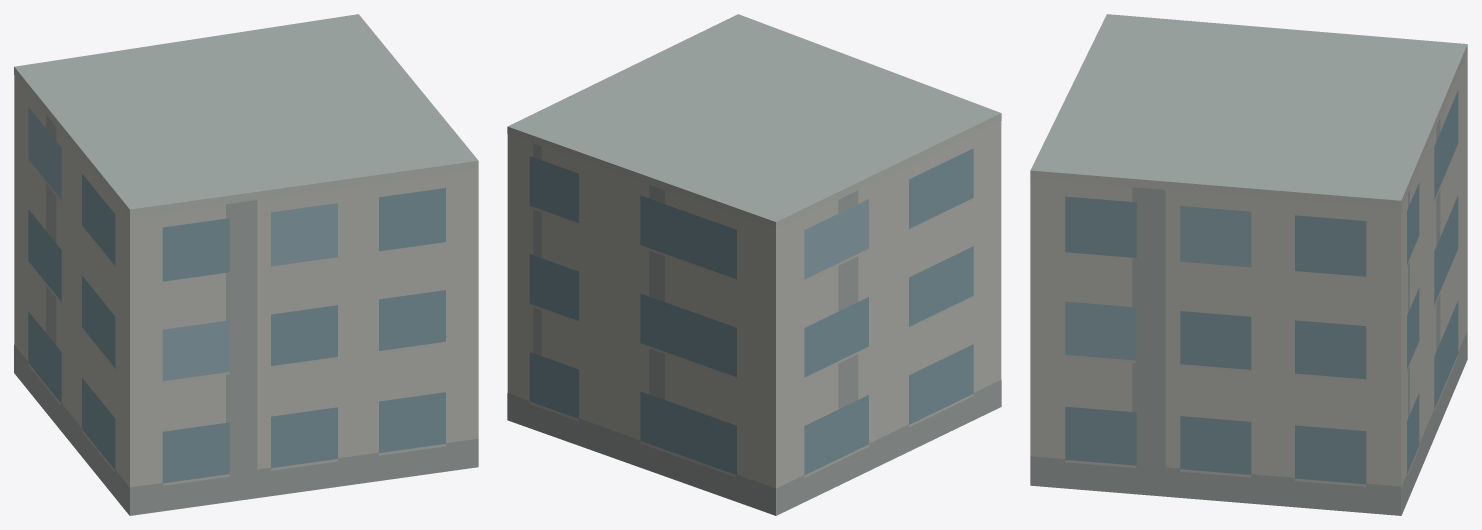
File: survey-upis-32780818.glb
The picture shows the model from 3 angles, left to right: view 1: azimuth 30°, elevation 25°; view 2: azimuth 150°, elevation 25°; view 3: azimuth 270°, elevation 25°; orthographic projection. The views are drawn at different scales.
Visible parts, largest first — view 1: survey-upis-32780818.tmp; view 2: survey-upis-32780818.tmp; view 3: survey-upis-32780818.tmp.
Part boxes in pixels (bbox=[...]): survey-upis-32780818.tmp: bbox=[14, 14, 478, 515]; survey-upis-32780818.tmp: bbox=[507, 14, 1001, 515]; survey-upis-32780818.tmp: bbox=[1030, 14, 1467, 515].
Size of the model in its own units: 11.64 by 9.15 by 11.52.
